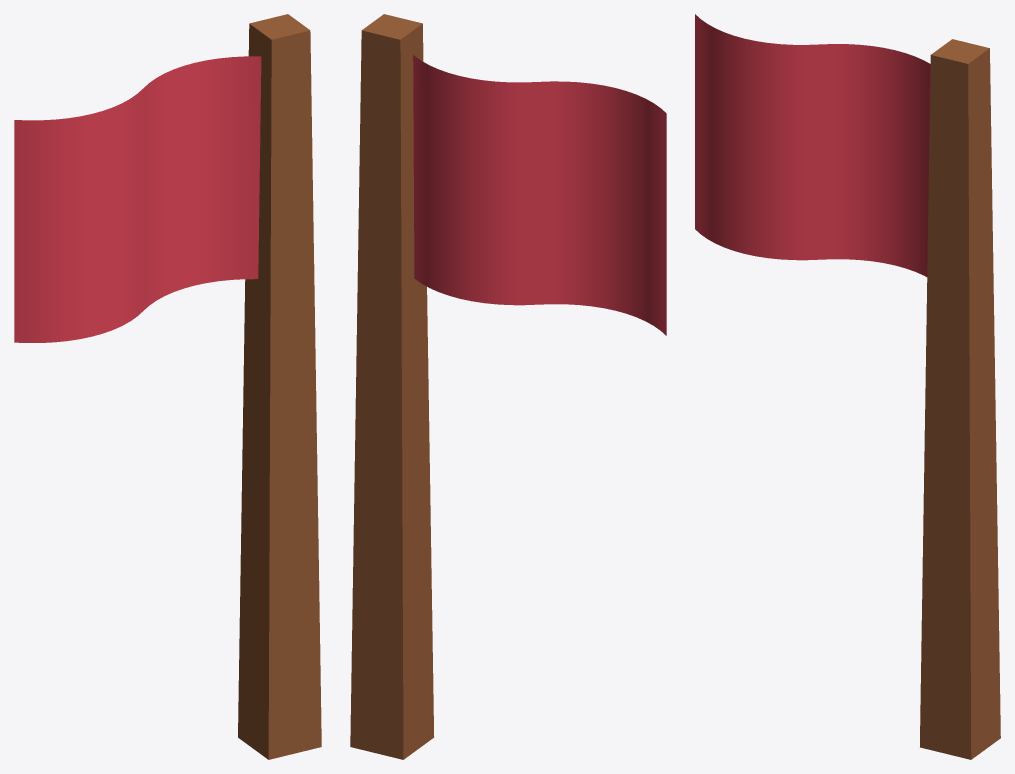
Rendered from flag.dae.
The picture shows the model from 3 angles, left to right: view 1: azimuth 30°, elevation 25°; view 2: azimuth 150°, elevation 25°; view 3: azimuth 330°, elevation 25°; orthographic projection. The views are drawn at different scales.
Visible parts, largest first — view 1: flag; view 2: flag; view 3: flag.
Part boxes in pixels (<box>): flag: <box>14,14,321,759</box>; flag: <box>350,14,666,759</box>; flag: <box>695,14,1000,759</box>.
Bounding box in the file's own units: 0.3905 × 0.9 × 0.0754.
